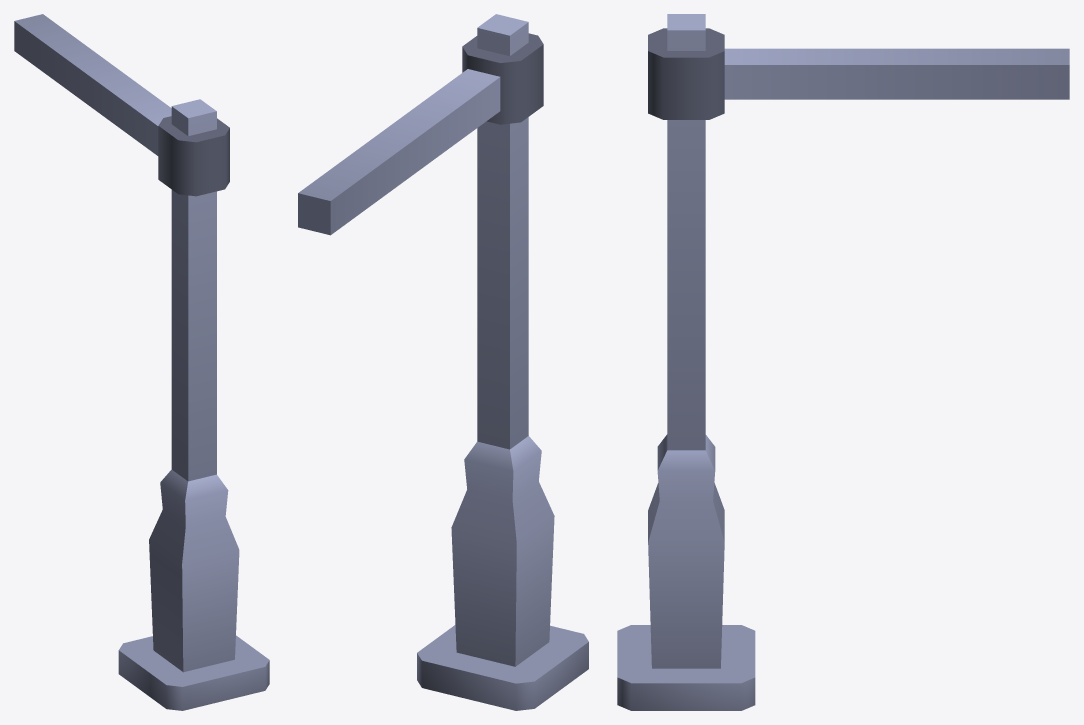
The model's file is road-sign-empty-hanging.glb.
The picture shows the model from 3 angles, left to right: view 1: azimuth 30°, elevation 25°; view 2: azimuth 150°, elevation 25°; view 3: azimuth 270°, elevation 25°; orthographic projection. The views are drawn at different scales.
Visible parts, largest first — view 1: road-sign-empty-hanging; view 2: road-sign-empty-hanging; view 3: road-sign-empty-hanging.
Boxes of the visible parts, x1,y1,x2,y2 form: road-sign-empty-hanging: (14, 14, 269, 710); road-sign-empty-hanging: (298, 14, 588, 710); road-sign-empty-hanging: (617, 14, 1069, 710).
Size of the model in its own units: 0.09 by 0.475 by 0.295.
1 material, 1 textured.
